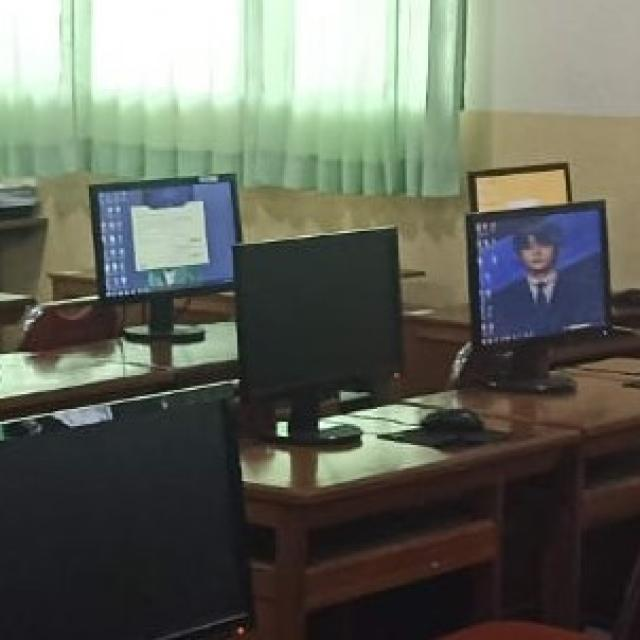offscreen: (0, 384, 249, 639), (235, 227, 401, 398)
onscreen: (467, 201, 609, 344), (90, 175, 240, 298)
